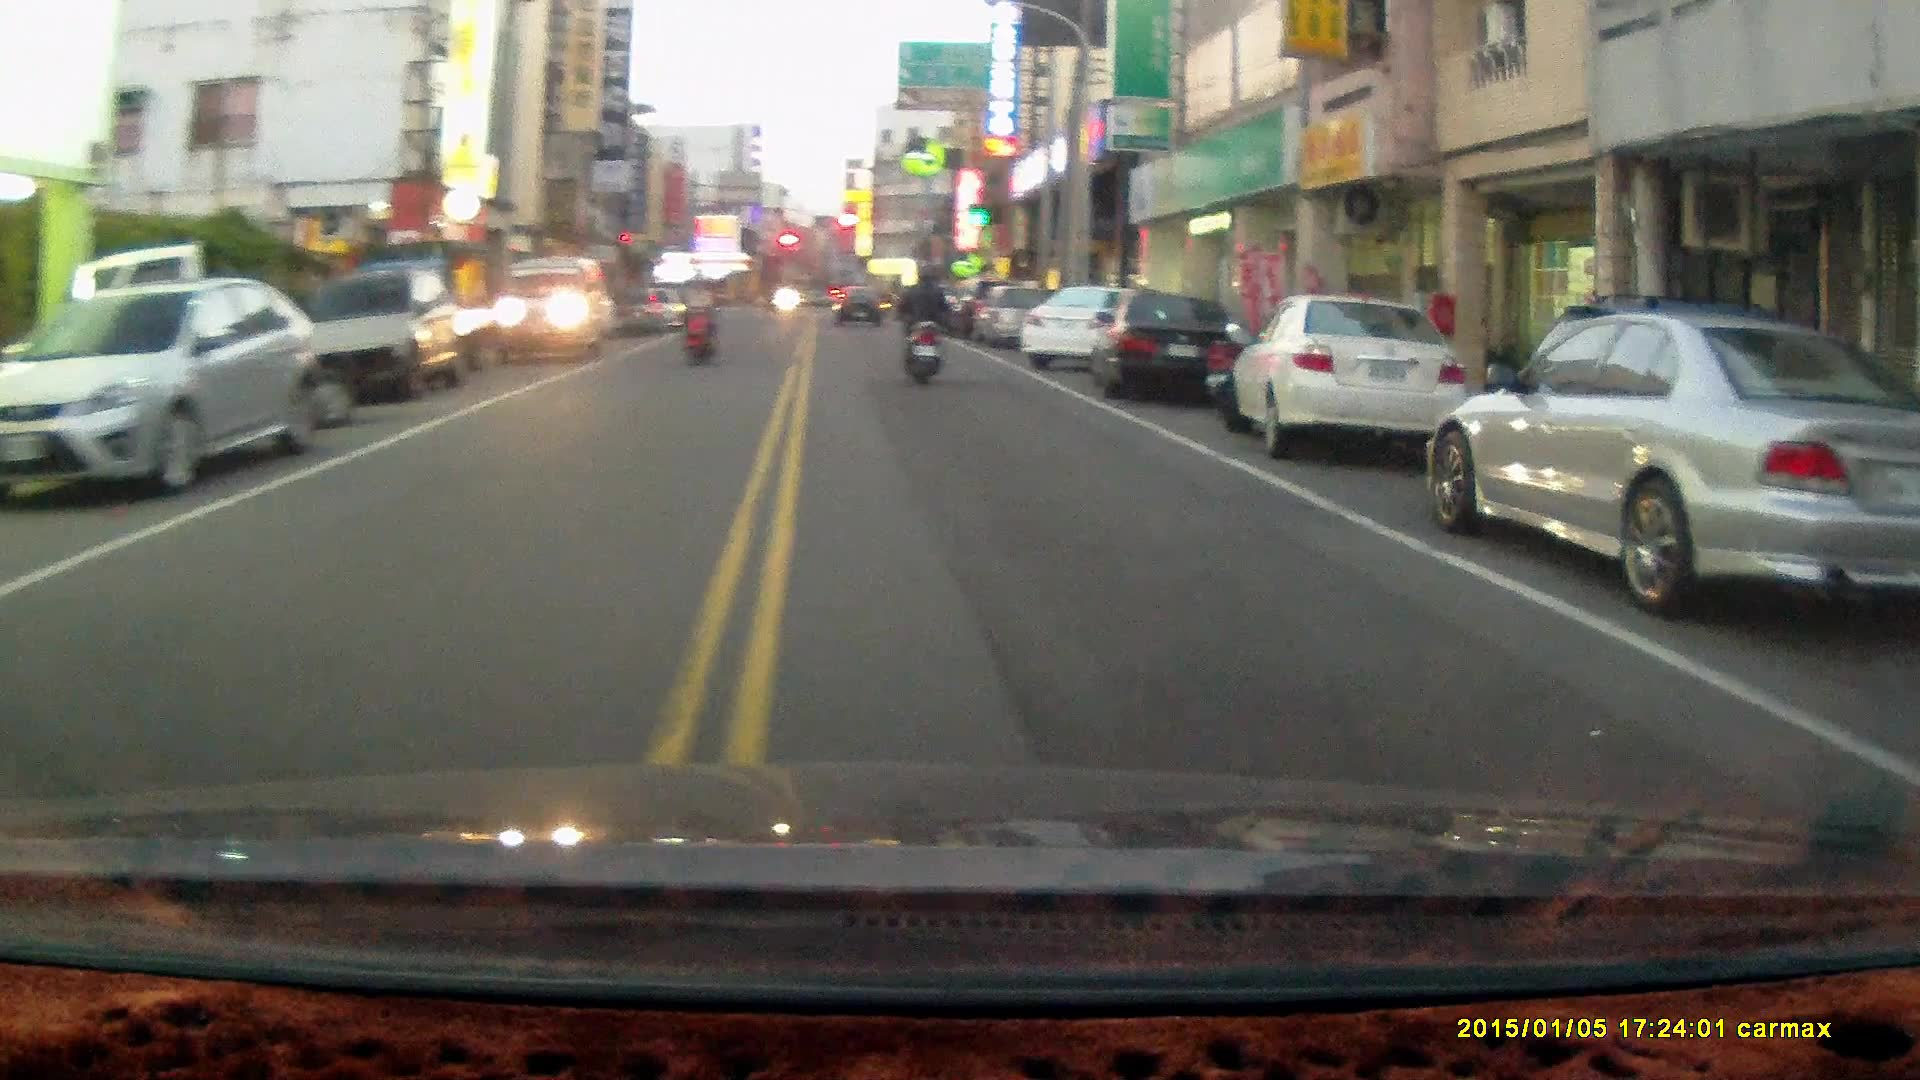rider: (897, 267, 947, 391), (680, 277, 718, 370)
vehicle: (1429, 308, 1919, 618), (1, 278, 329, 504), (1213, 294, 1471, 456), (300, 270, 454, 407), (1091, 289, 1241, 405), (493, 254, 611, 369), (1016, 286, 1157, 376)
